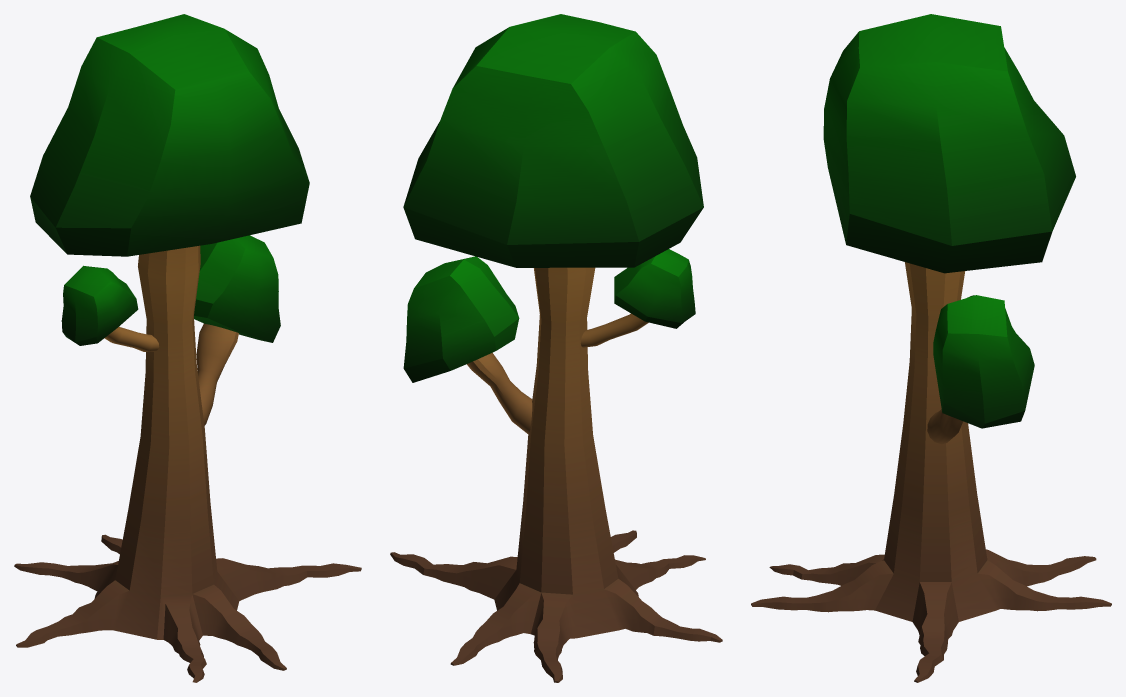
File: Arbol_2_elementosDecorativos_T.fbx
3 renders of one model, left to right at view 1: azimuth 30°, elevation 25°; view 2: azimuth 150°, elevation 25°; view 3: azimuth 270°, elevation 25°, orthographic.
Visible parts, largest first — view 1: Arbol 1; view 2: Arbol 1; view 3: Arbol 1.
Part boxes in pixels (box(x1,y1,x2,y2)): Arbol 1: box(14, 14, 361, 682); Arbol 1: box(390, 14, 722, 682); Arbol 1: box(751, 14, 1111, 682).
Size of the model in its own units: 1993 by 3218 by 1862.
